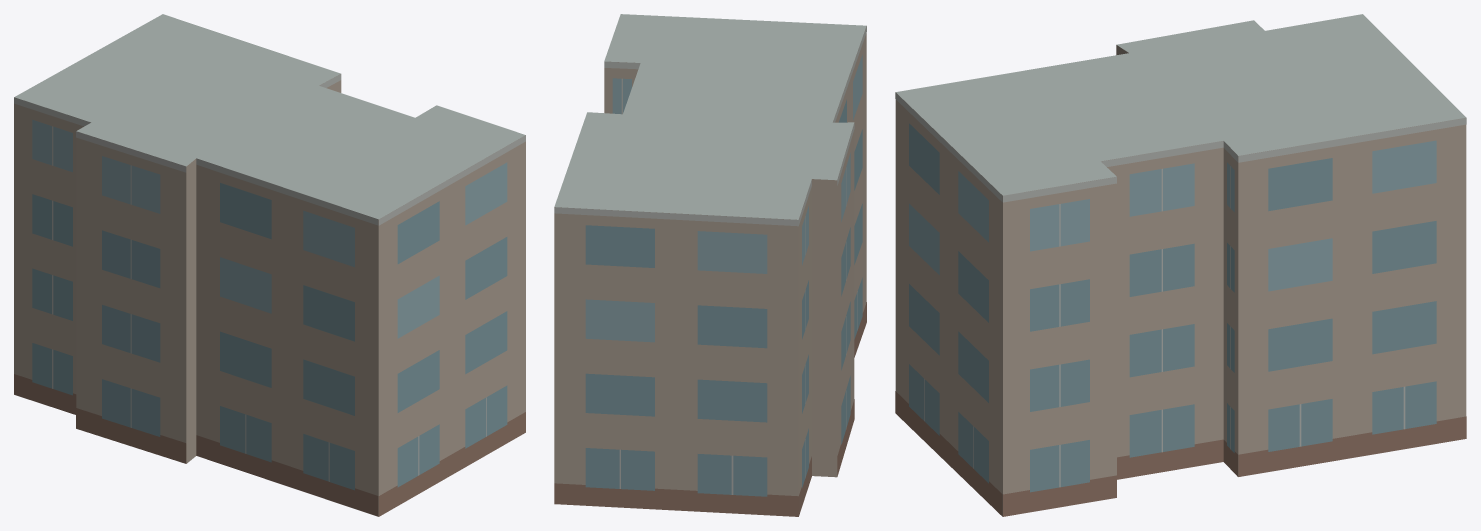
File: survey-upis-32758775.glb
3 views of the same model, side by side, from view 1: azimuth 30°, elevation 25°; view 2: azimuth 150°, elevation 25°; view 3: azimuth 270°, elevation 25° (orthographic). The views are drawn at different scales.
Visible parts, largest first — view 1: survey-upis-32758775.tmp; view 2: survey-upis-32758775.tmp; view 3: survey-upis-32758775.tmp.
Part boxes in pixels (box(x1,y1,x2,y2)): survey-upis-32758775.tmp: box(14, 14, 525, 516); survey-upis-32758775.tmp: box(554, 14, 866, 516); survey-upis-32758775.tmp: box(895, 14, 1466, 516).
Bounding box in the file's own units: 13.85 × 11.4 × 18.38.
